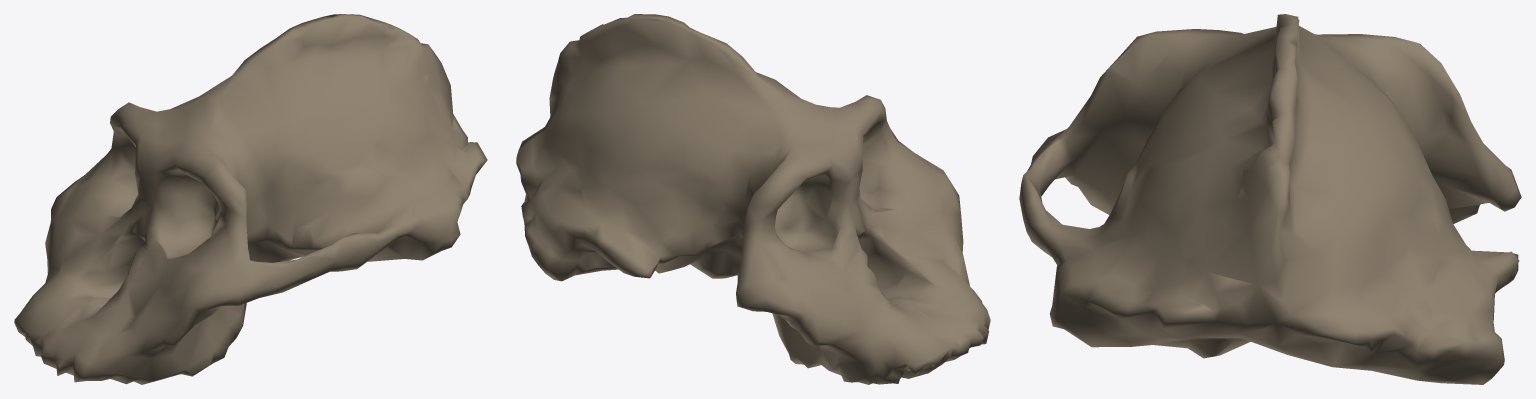
File: aethiopicus.glb
The picture shows the model from 3 angles, left to right: view 1: azimuth 30°, elevation 25°; view 2: azimuth 150°, elevation 25°; view 3: azimuth 270°, elevation 25°; orthographic projection. The views are drawn at different scales.
Size of the model in its own units: 0.2225 by 0.1409 by 0.156.
